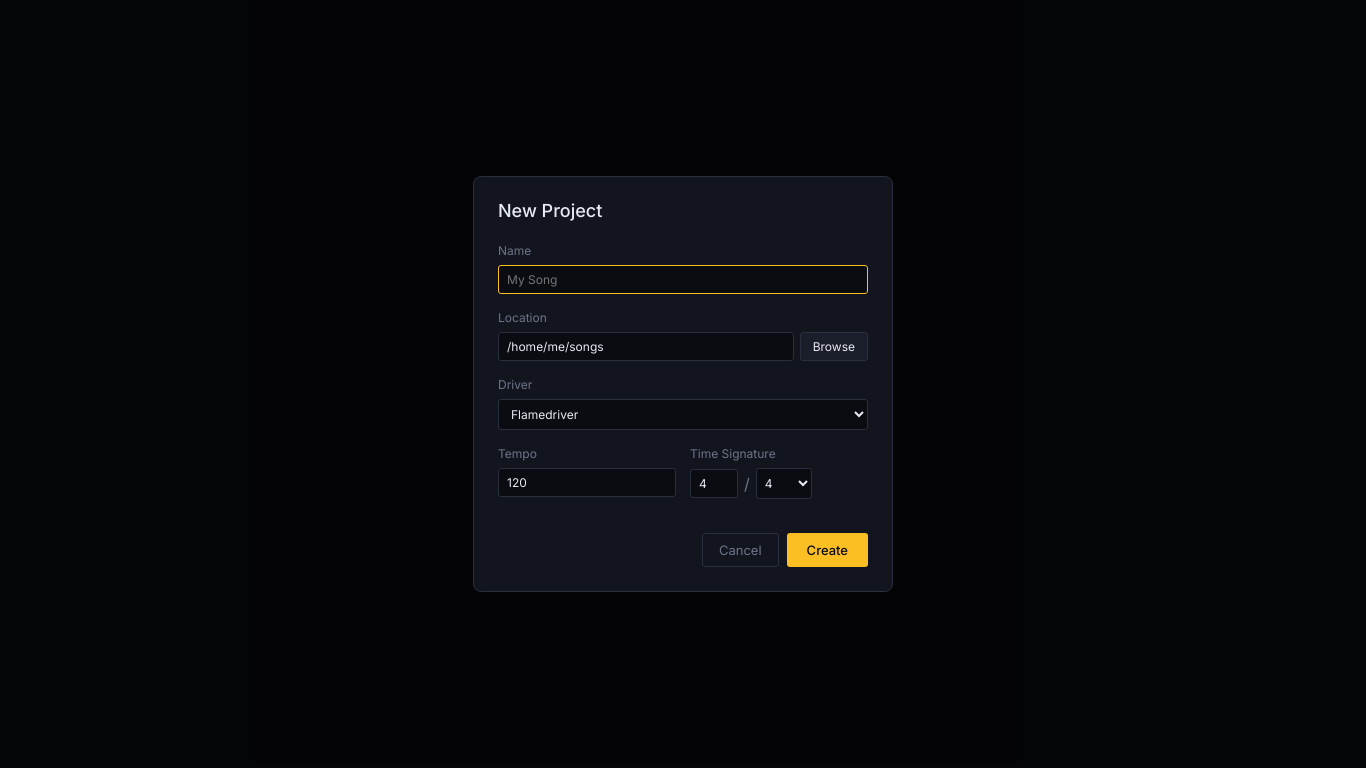
Test: NewProjectDialog recent locations › shows remembered locations as suggestions on focus and fills on click
Focus the field with placeholder "/path/to/projects" at x=646, y=346, box [498,332,794,361]
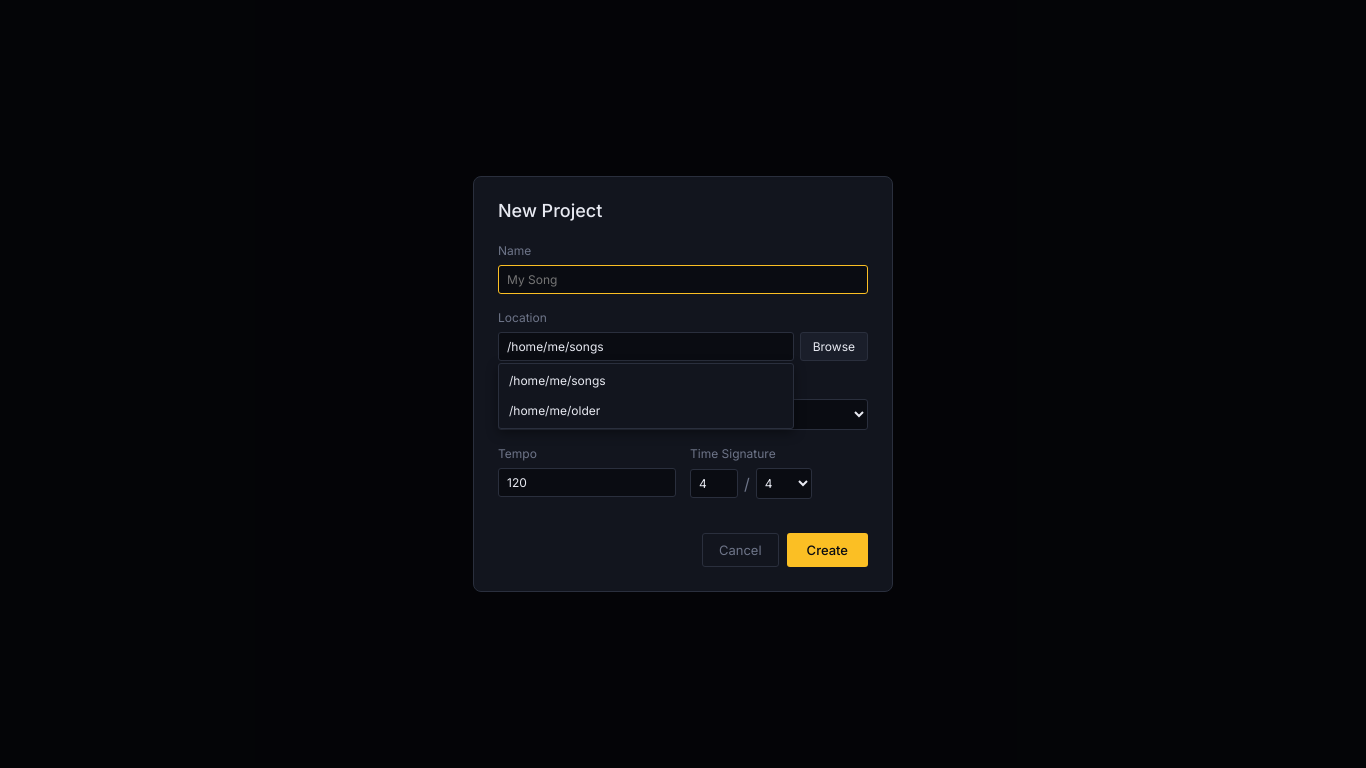
Result: the option "/home/me/songs" is shown at [509,373,606,388]
Press the mouse on the option "/home/me/older" at x=555, y=410, box [509,403,600,418]
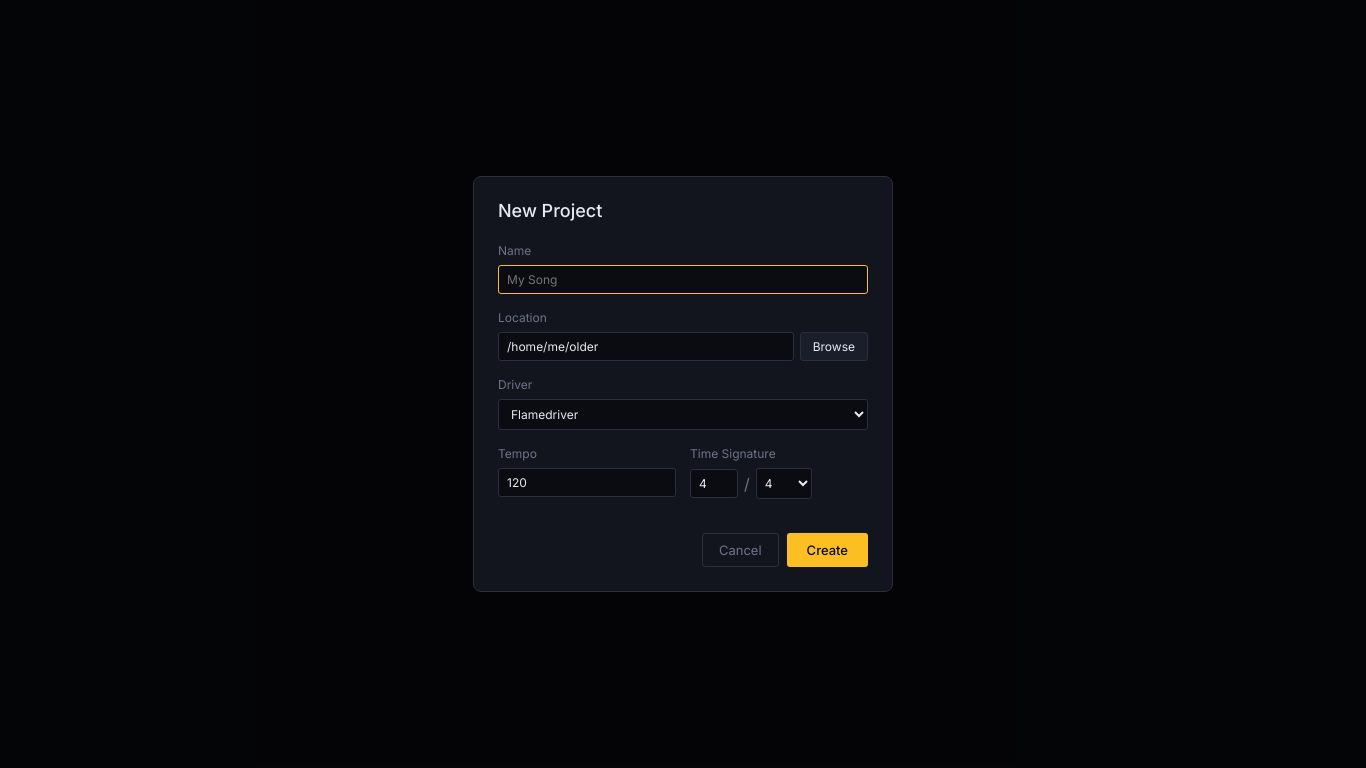
Result: the field with placeholder "/path/to/projects" holds "/home/me/older" at [498,332,794,361]
